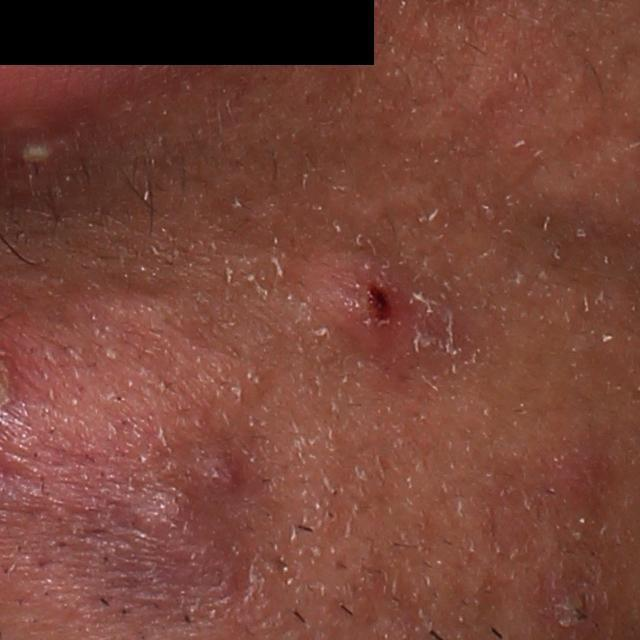papule: (538, 446, 614, 522), (119, 488, 200, 547), (180, 445, 243, 505)
pustule: (11, 142, 69, 172)
